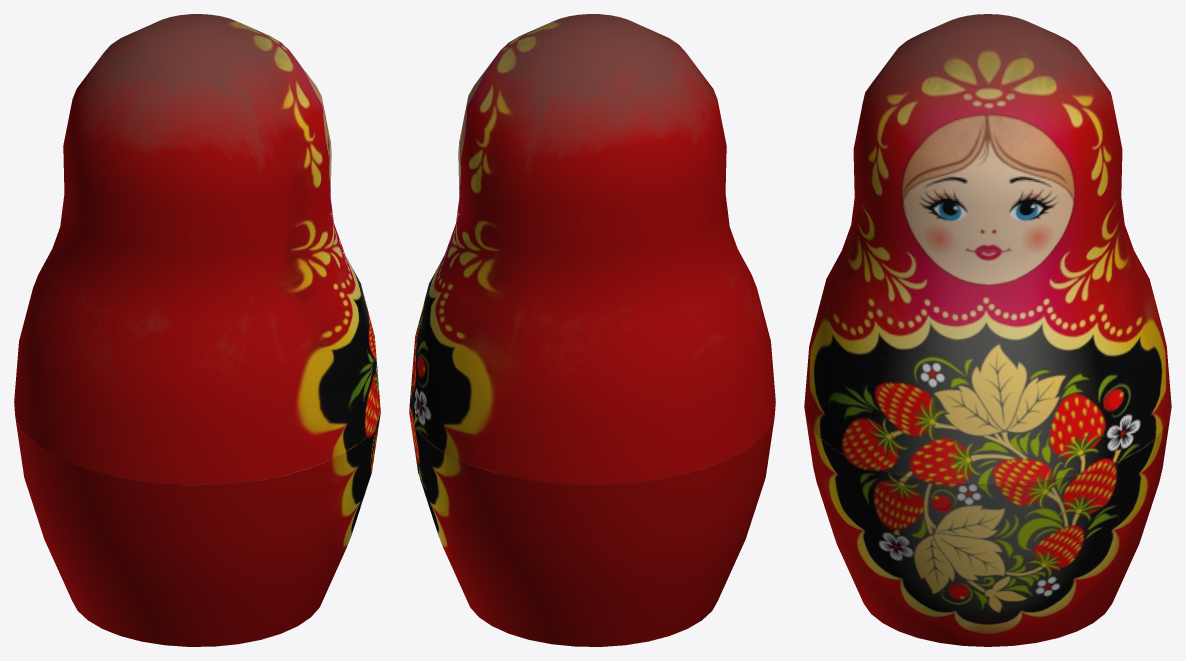
Rendered from doll.obj.
The picture shows the model from 3 angles, left to right: view 1: azimuth 30°, elevation 25°; view 2: azimuth 150°, elevation 25°; view 3: azimuth 270°, elevation 25°; orthographic projection.
Visible parts, largest first — view 1: Matroska_top_Cylinder, Matroska_bottom_Cylinder.001; view 2: Matroska_top_Cylinder, Matroska_bottom_Cylinder.001; view 3: Matroska_top_Cylinder, Matroska_bottom_Cylinder.001.
Part boxes in pixels (x1,y1,x2,y2): Matroska_top_Cylinder: (14,14,380,484); Matroska_bottom_Cylinder.001: (15,413,380,646); Matroska_top_Cylinder: (409,14,775,484); Matroska_bottom_Cylinder.001: (409,413,774,646); Matroska_top_Cylinder: (804,14,1171,484); Matroska_bottom_Cylinder.001: (804,409,1171,646).
Size of the model in its own units: 0.1765 by 0.3001 by 0.1765.
Materials: 2 (2 with a texture image).
